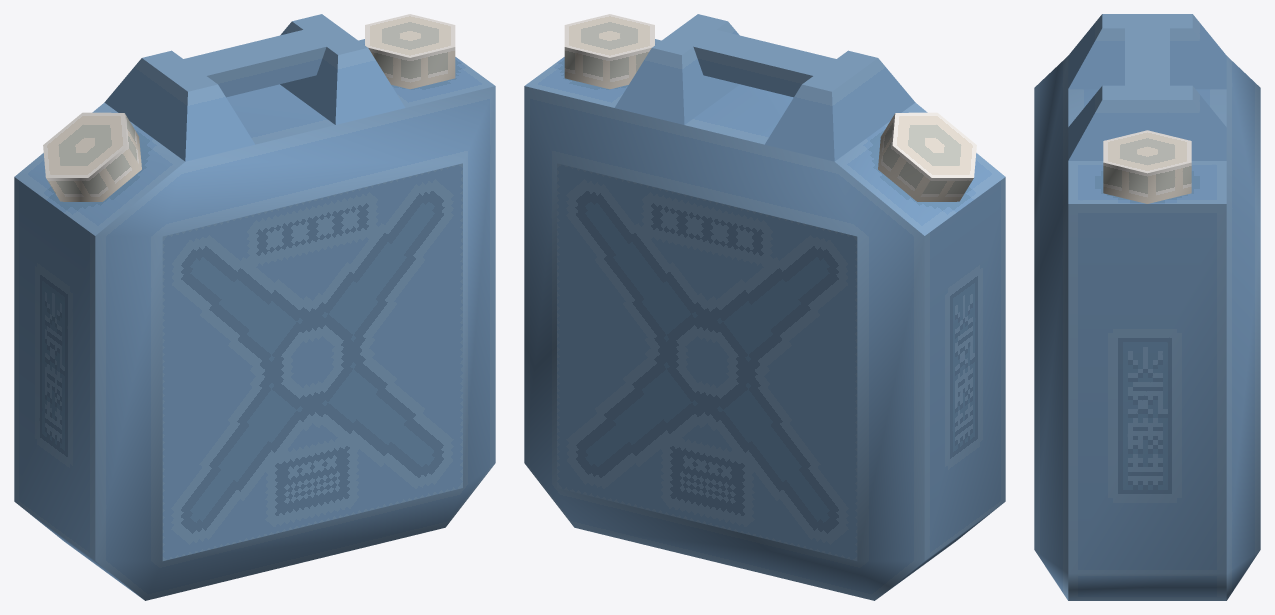
File: 00c4_Kerosene_Tank.glb
The picture shows the model from 3 angles, left to right: view 1: azimuth 30°, elevation 25°; view 2: azimuth 150°, elevation 25°; view 3: azimuth 270°, elevation 25°; orthographic projection. The views are drawn at different scales.
Visible parts, largest first — view 1: part_0; view 2: part_0; view 3: part_0.
Boxes of the visible parts, box(x1,y1,x2,y2) form: part_0: box(14, 14, 495, 600); part_0: box(524, 14, 1005, 600); part_0: box(1034, 14, 1260, 600).
Size of the model in its own units: 0.4089 by 0.46 by 0.2.
Materials: 1 (1 with a texture image).
